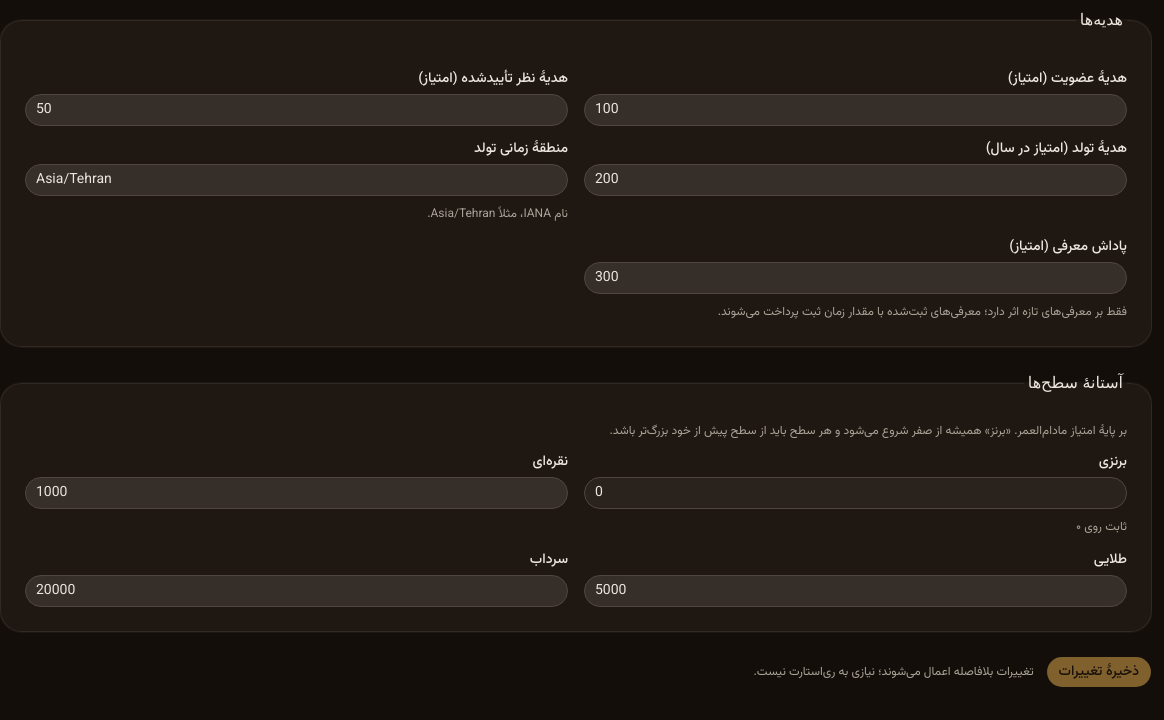
Test: LoyaltyProgrammeForm › refuses a tier threshold that does not exceed the one below
(page scrolled)
Replace the text in the field labelled "طلایی" with "500" at (856, 591), box x1=584 y1=575 x2=1127 y2=607
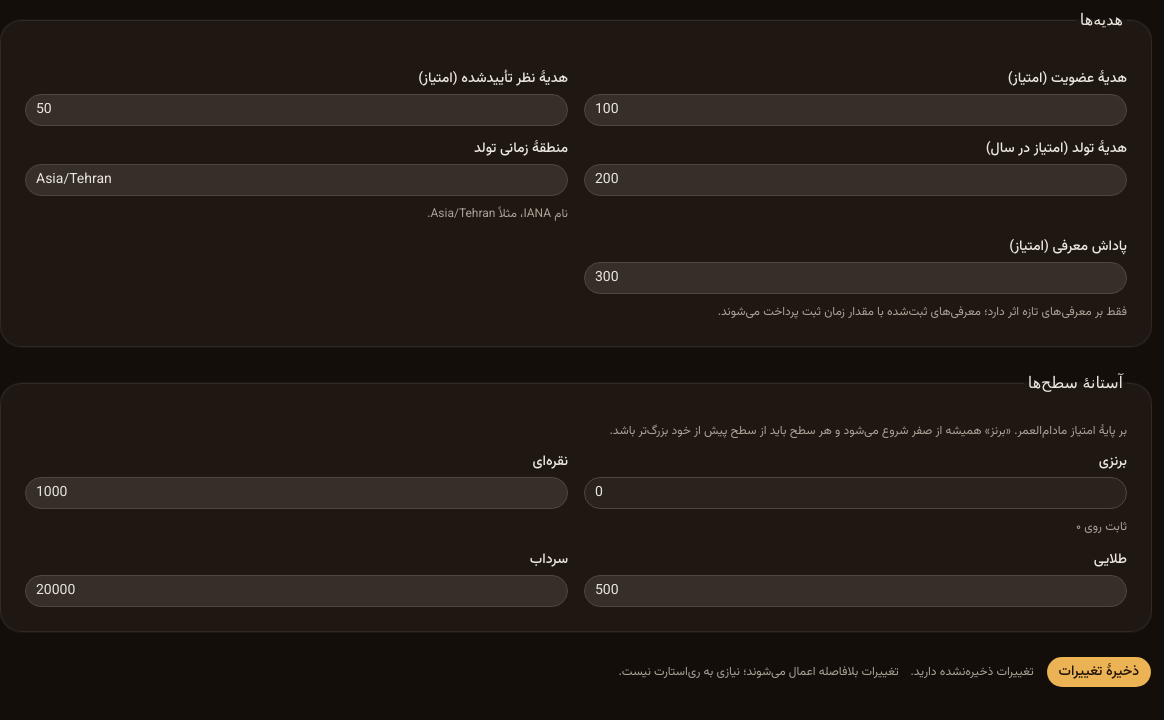
Click the button "ذخیرهٔ تغییرات" at (1099, 672), box x1=1046 y1=656 x2=1152 y2=688
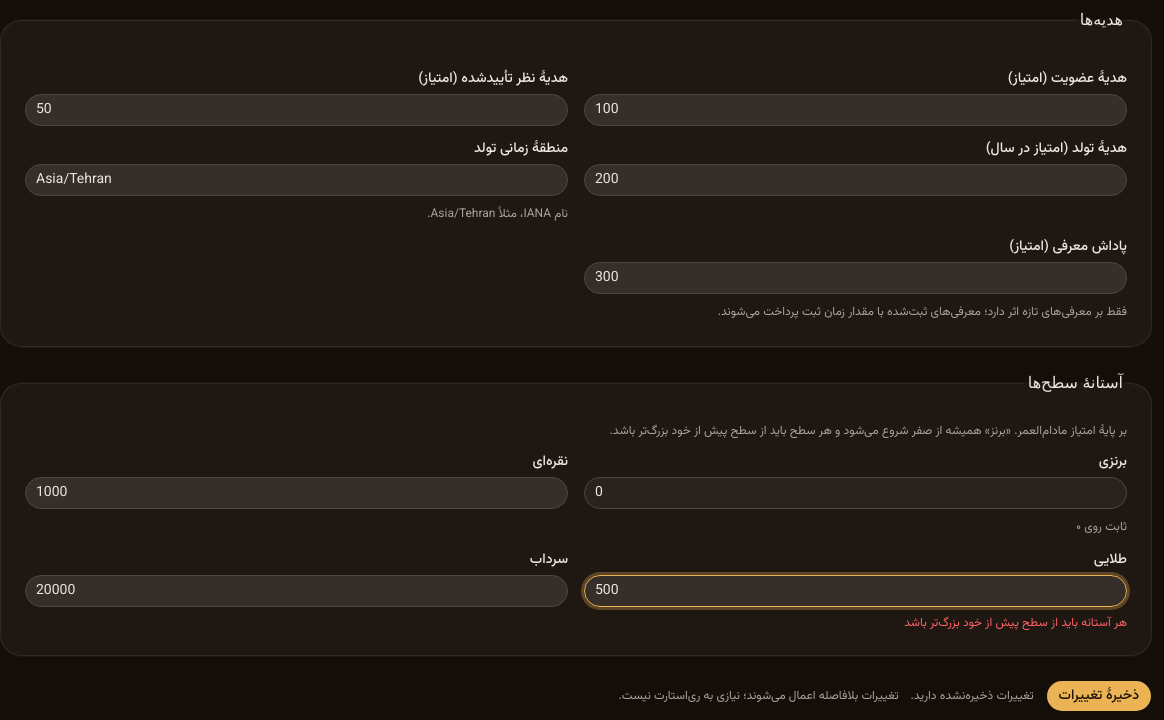
Now the text "هر آستانه باید از سطح پیش از خود بزرگ‌تر باشد" is shown, box x1=904 y1=614 x2=1127 y2=632
